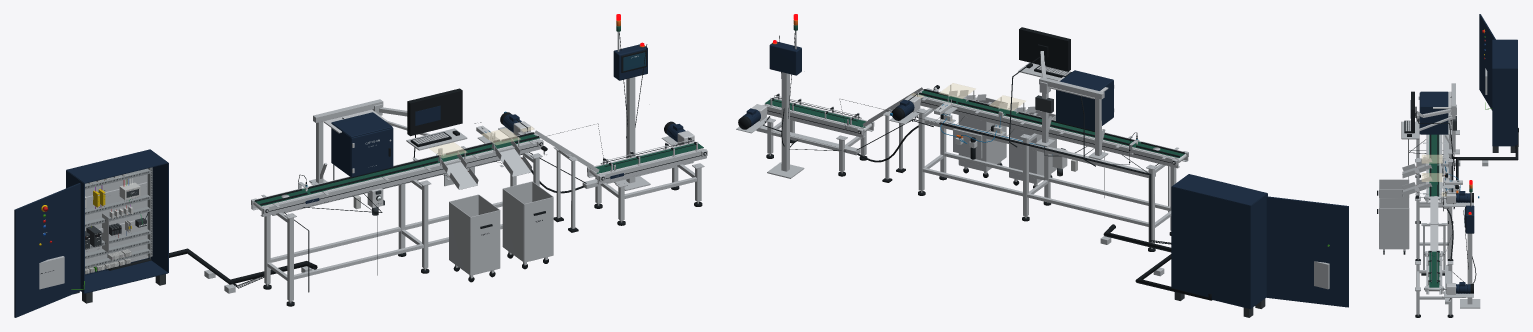
Rendered from machine.glb.
3 renders of one model, left to right at view 1: azimuth 30°, elevation 25°; view 2: azimuth 150°, elevation 25°; view 3: azimuth 270°, elevation 25°, orthographic. The views are drawn at different scales.
Visible parts, largest first — view 1: Machine, Cabinet, Hood, MainBelt, ReceivingBelt; view 2: Machine, Cabinet, MainBelt, ReceivingBelt; view 3: Machine, Cabinet, MainBelt, ReceivingBelt.
Part boxes in pixels (left/top/right/bottom): Machine: left=106, top=14, right=707, bottom=306; Cabinet: left=14, top=32, right=649, bottom=317; Hood: left=351, top=127, right=393, bottom=177; MainBelt: left=254, top=134, right=539, bottom=206; ReceivingBelt: left=595, top=142, right=703, bottom=173; Machine: left=736, top=14, right=1212, bottom=300; Cabinet: left=779, top=31, right=1348, bottom=317; MainBelt: left=918, top=90, right=1185, bottom=158; ReceivingBelt: left=765, top=99, right=865, bottom=127; Machine: left=1377, top=83, right=1518, bottom=317; Cabinet: left=1408, top=14, right=1517, bottom=300; MainBelt: left=1429, top=134, right=1439, bottom=196; ReceivingBelt: left=1429, top=250, right=1439, bottom=287.
Size of the model in its own units: 6.27 by 1.62 by 1.66.
